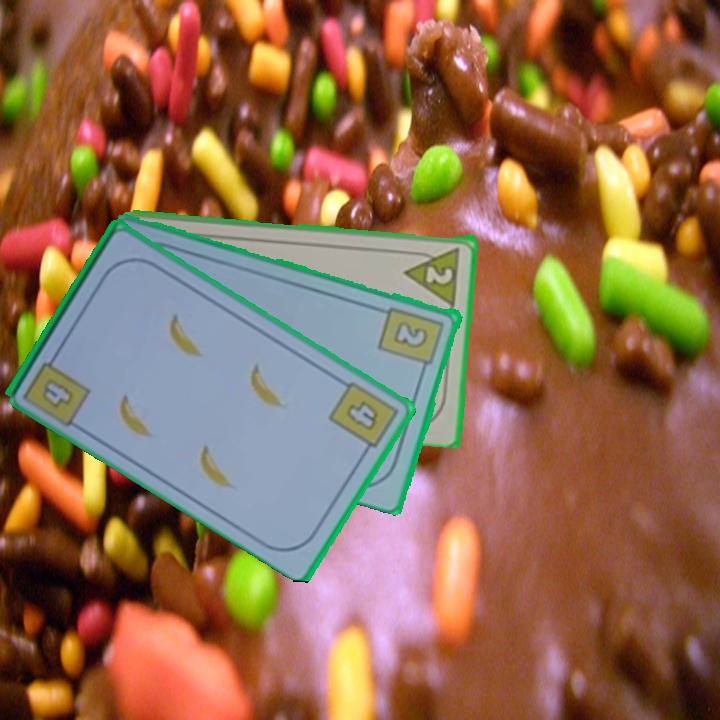2b: (376, 303, 448, 376)
2p: (402, 243, 463, 306)
4b: (325, 376, 401, 459), (38, 374, 77, 411)
